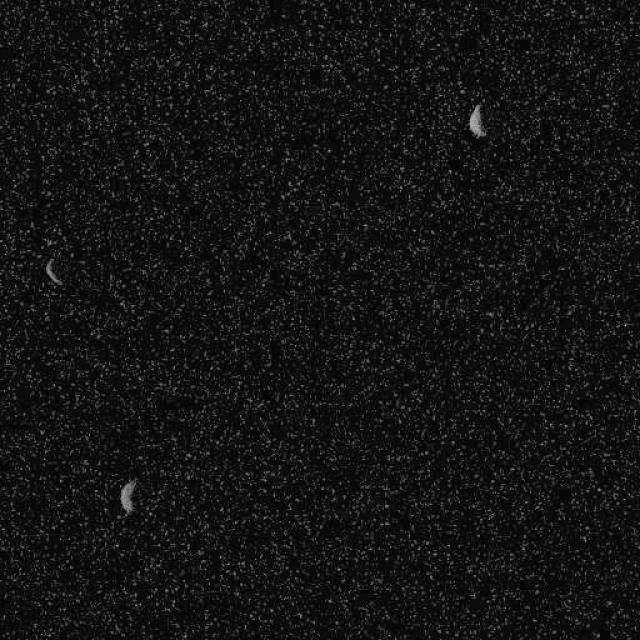D2: (466, 101, 486, 139), (118, 476, 136, 515), (44, 256, 64, 286)
